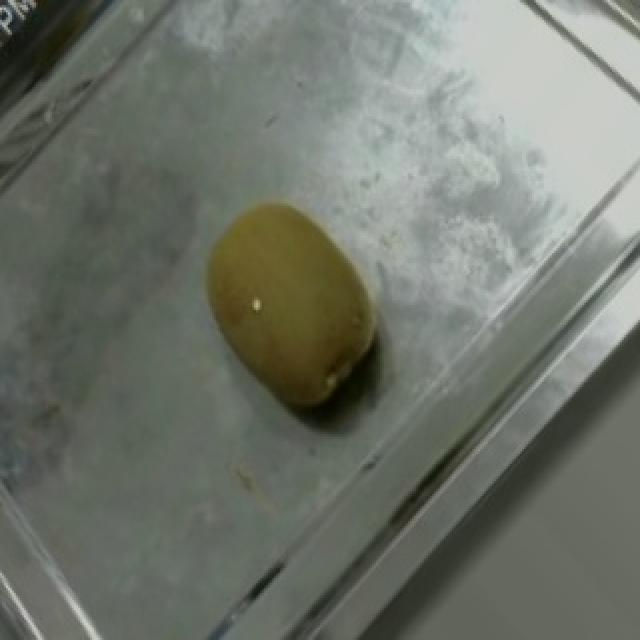Fruit: (166, 171, 422, 447)
